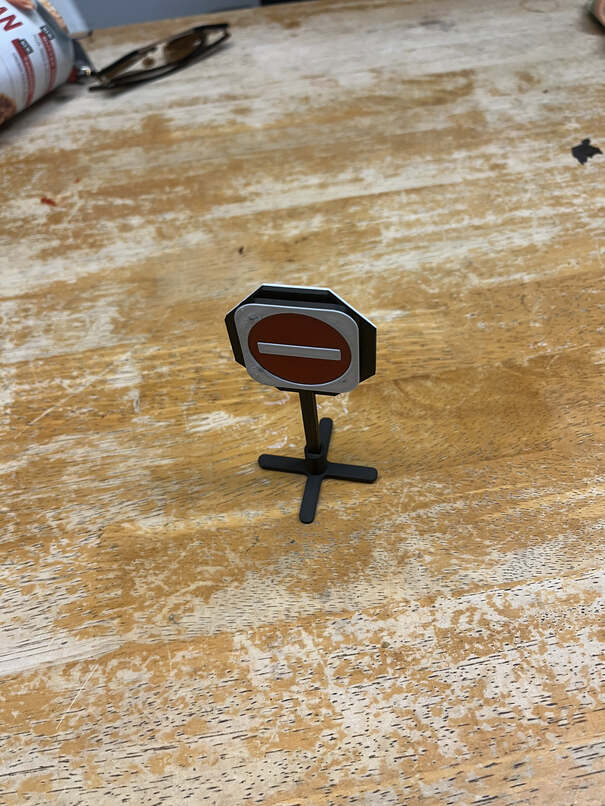sign_noentry: (236, 304, 364, 399)
